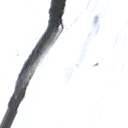crackTip: (1, 1, 68, 128)
